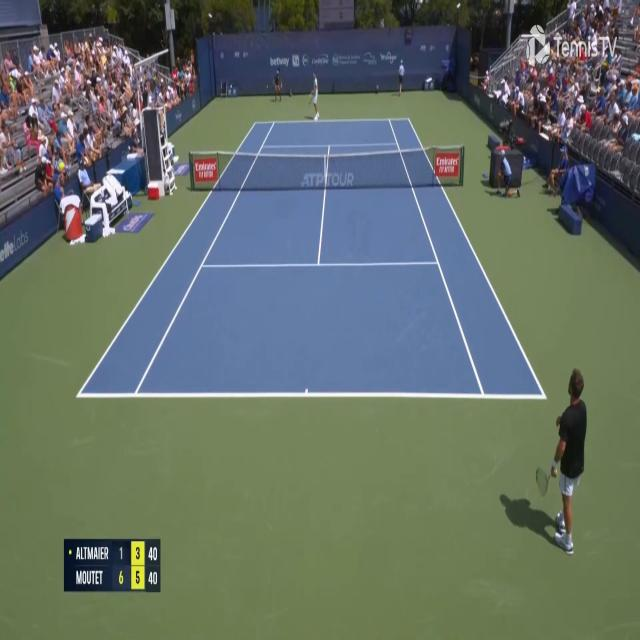tennis-player: (532, 360, 592, 556), (308, 74, 321, 122)
